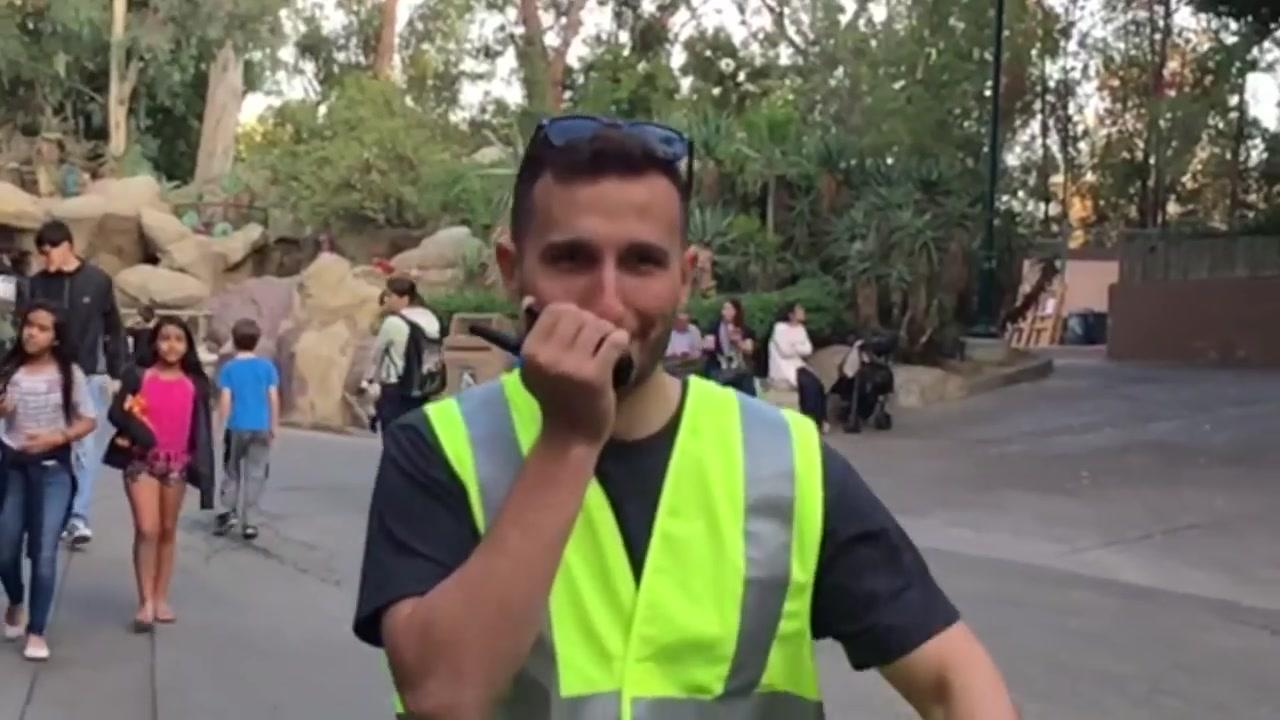Glass: (404, 333, 829, 710)
